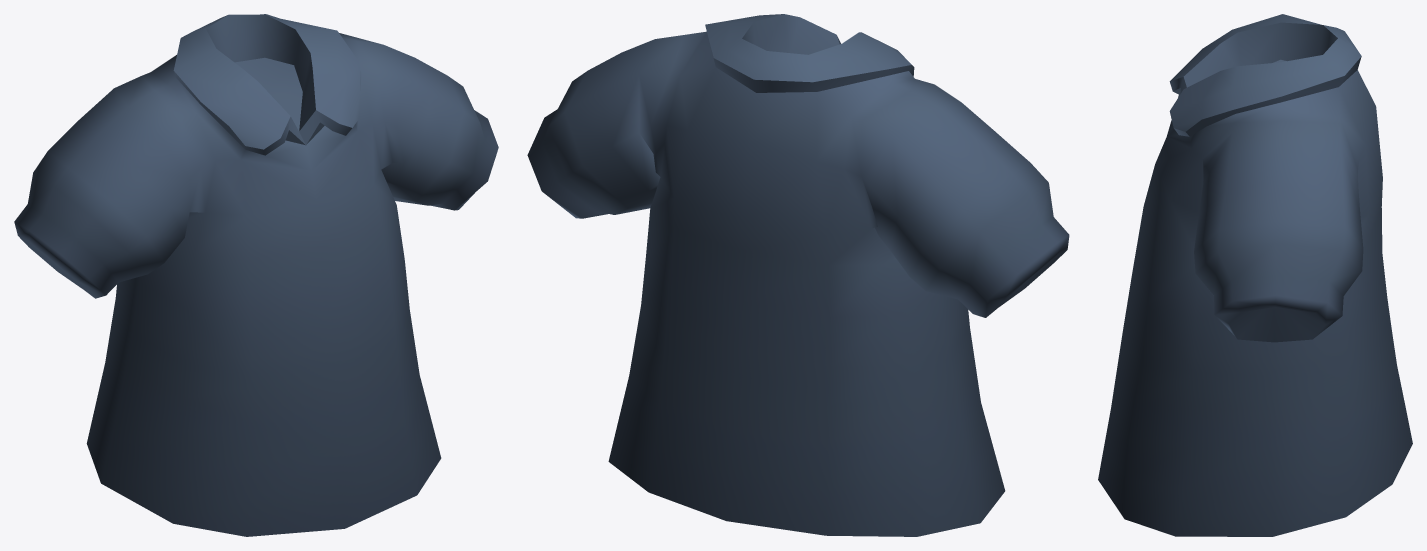
Rendered from top_A_02.fbx.
3 renders of one model, left to right at view 1: azimuth 30°, elevation 25°; view 2: azimuth 150°, elevation 25°; view 3: azimuth 270°, elevation 25°, orthographic. The views are drawn at different scales.
Parts seen in each view (by area): view 1: Top_72; view 2: Top_72; view 3: Top_72.
Part boxes in pixels (<box>): Top_72: <box>14,14,498,536</box>; Top_72: <box>527,14,1069,536</box>; Top_72: <box>1098,14,1412,536</box>.
Size of the model in its own units: 72.15 by 64.46 by 41.67.
